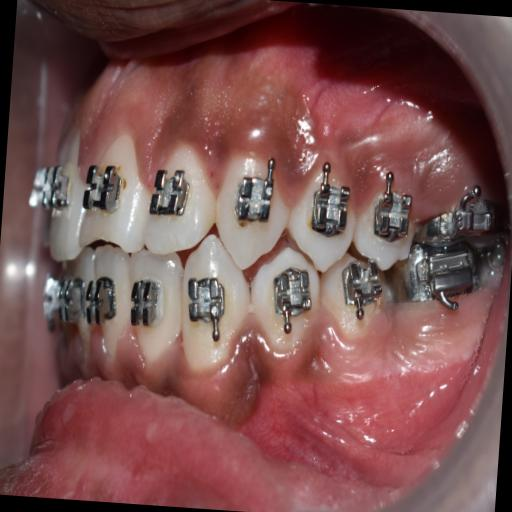correct_brace: (289, 161, 357, 280), (80, 152, 130, 221), (150, 158, 194, 220), (234, 172, 276, 232)
incorrect_brace: (144, 138, 214, 260), (312, 180, 354, 240)
